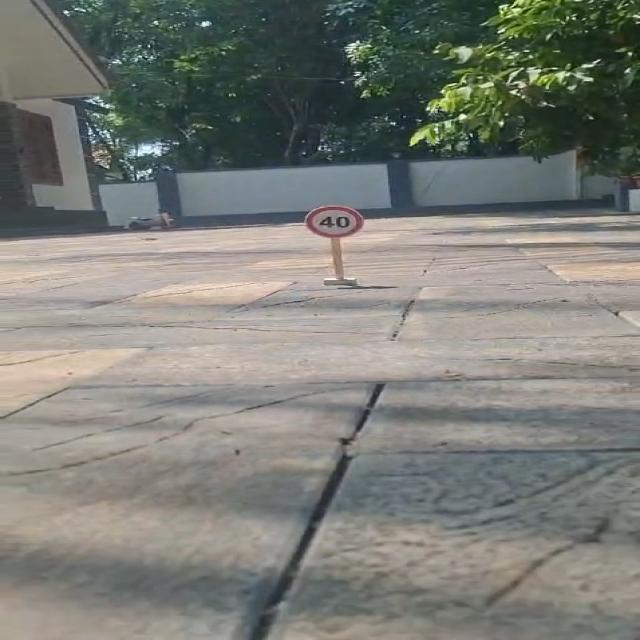Speed40: (300, 203, 366, 240)
